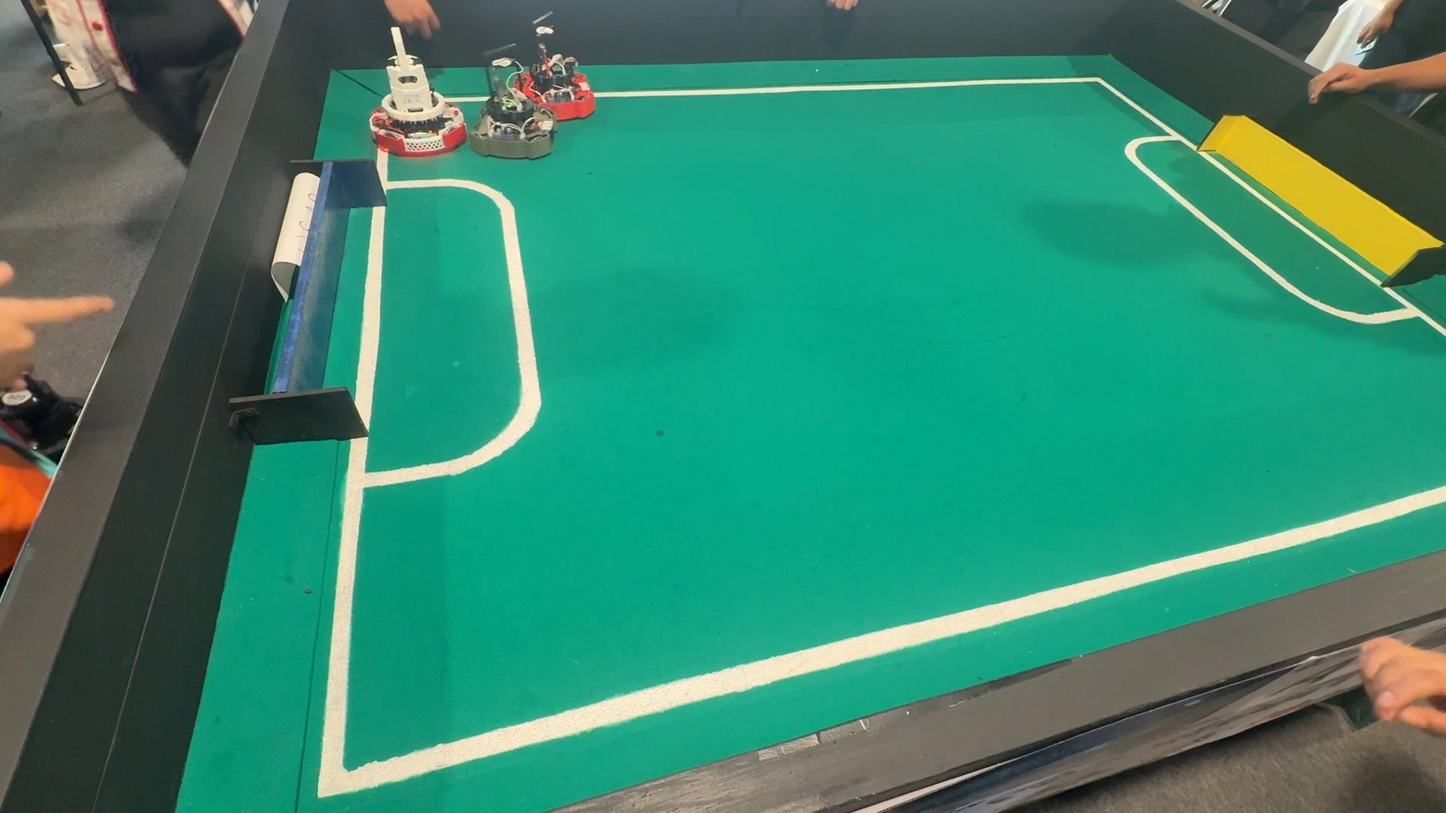Robot: (476, 16, 602, 166), (364, 16, 466, 158)
